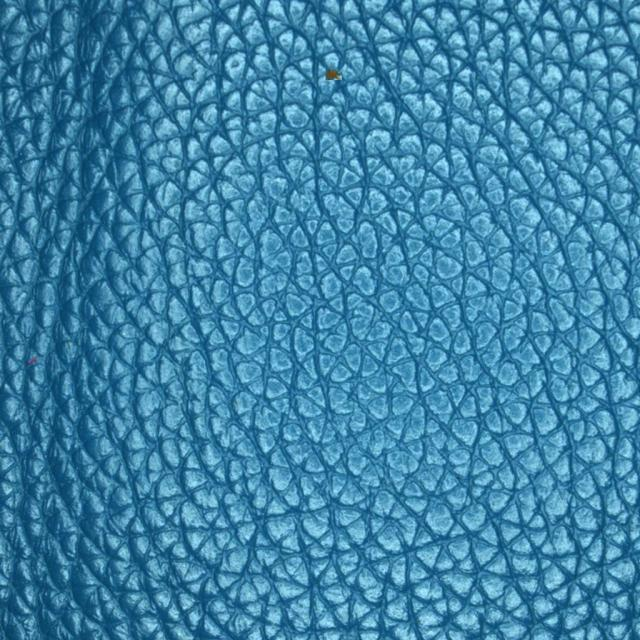pinhole: (260, 25, 390, 185)
